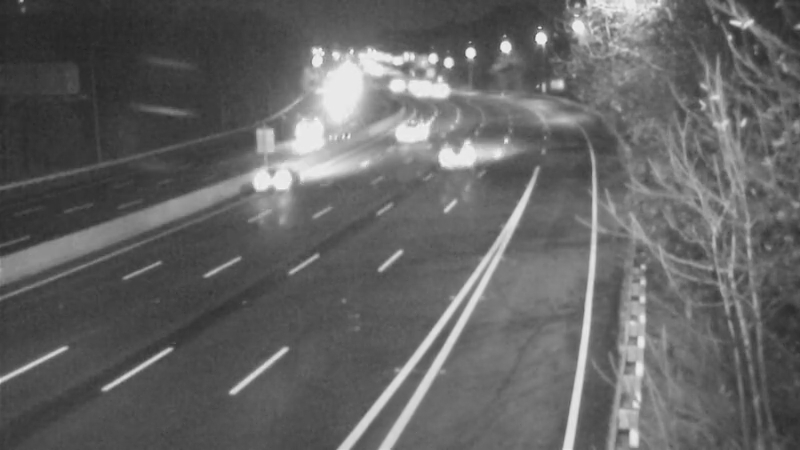vehicle: (228, 150, 308, 230), (362, 106, 412, 156), (430, 122, 480, 172), (284, 109, 334, 159)
